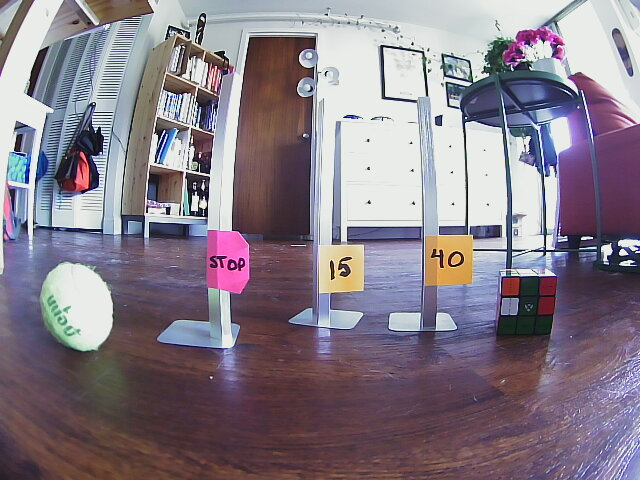15: (320, 247, 366, 295)
40: (424, 237, 473, 287)
ball: (40, 264, 112, 349)
cube: (497, 269, 557, 337)
stop: (206, 232, 249, 293)
